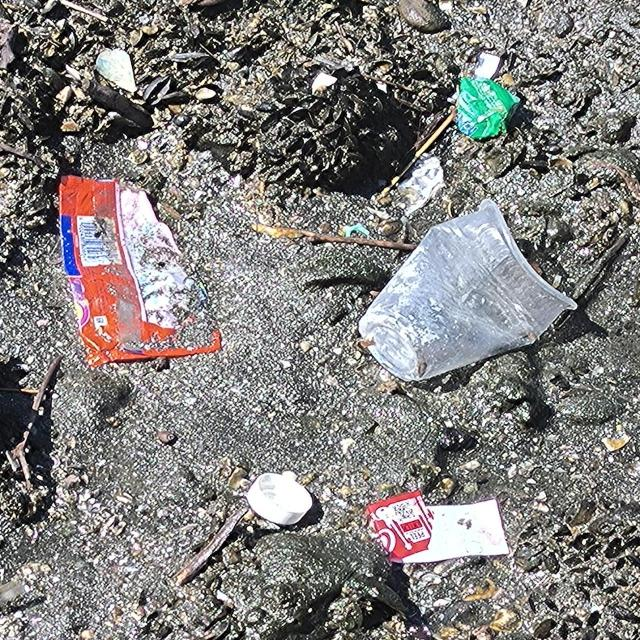plastic_waste: (360, 199, 580, 382), (60, 178, 222, 368), (367, 489, 512, 565), (456, 78, 524, 138), (247, 473, 315, 528)
